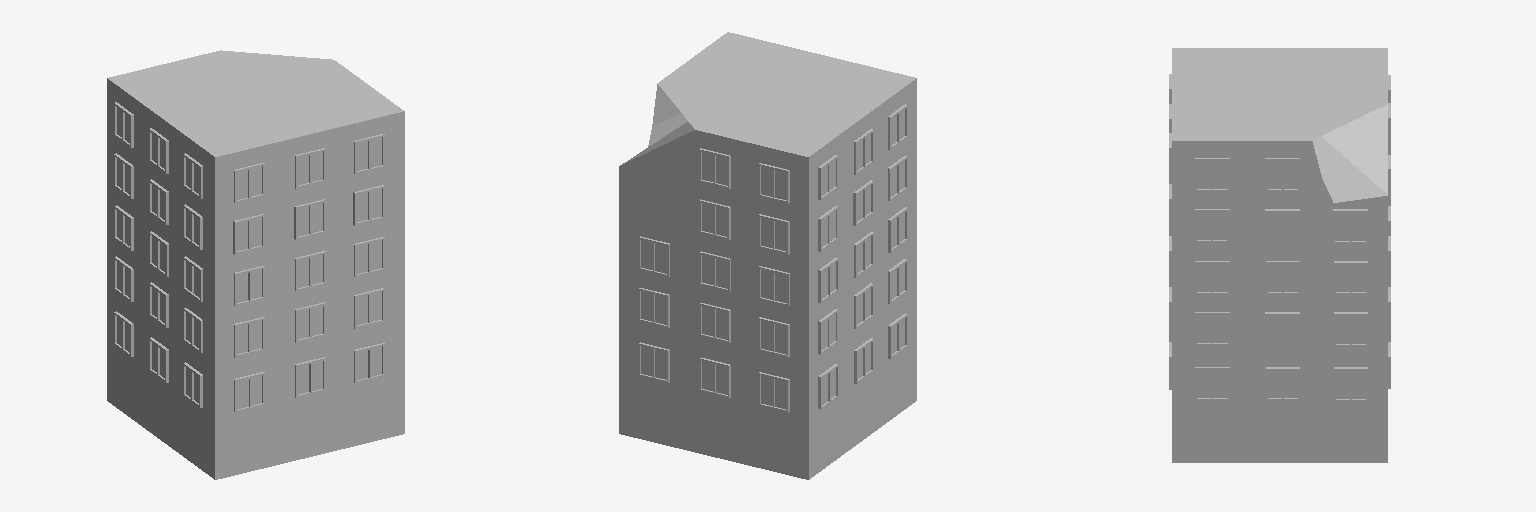
The model's file is BrokenBuilding.obj.
3 views of the same model, side by side, from view 1: azimuth 30°, elevation 25°; view 2: azimuth 150°, elevation 25°; view 3: azimuth 270°, elevation 25° (orthographic).
Visible parts, largest first — view 1: Cube; view 2: Cube; view 3: Cube.
Part boxes in pixels (bbox=[...]): Cube: bbox=[107, 50, 404, 479]; Cube: bbox=[619, 32, 916, 479]; Cube: bbox=[1169, 48, 1390, 462].
Bounding box in the file's own units: 3.94 × 6.21 × 3.88.